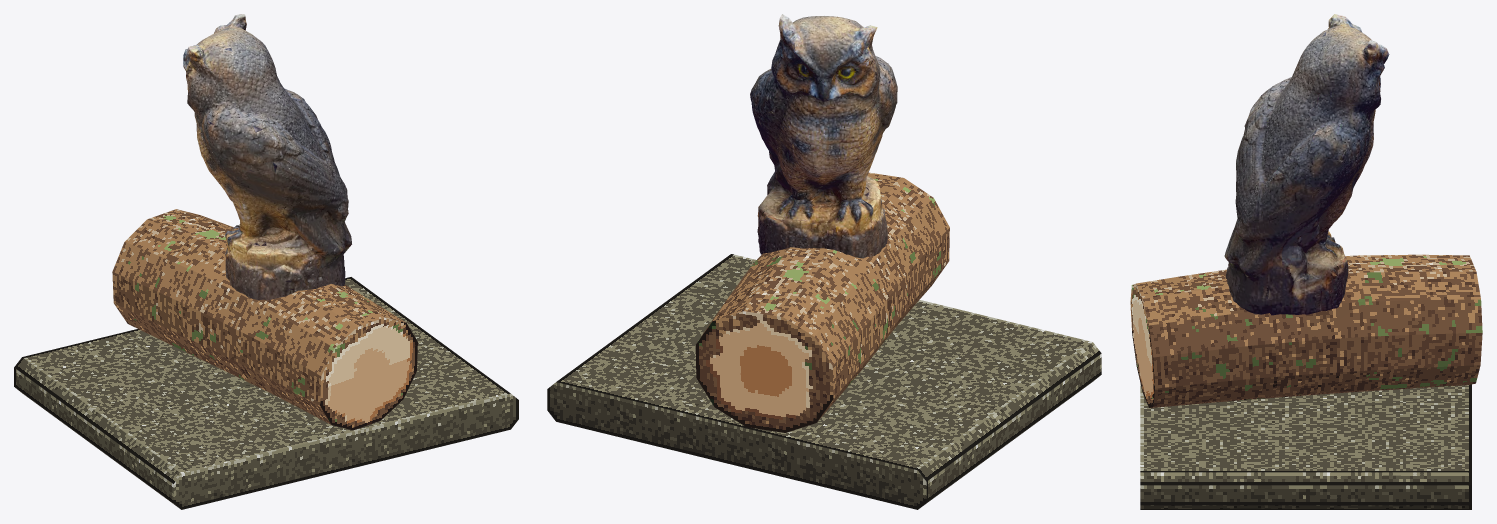
Rendered from fukuro.glb.
The picture shows the model from 3 angles, left to right: view 1: azimuth 30°, elevation 25°; view 2: azimuth 150°, elevation 25°; view 3: azimuth 270°, elevation 25°; orthographic projection. The views are drawn at different scales.
Visible parts, largest first — view 1: base, log, model_bird; view 2: base, log, model_bird; view 3: log, base, model_bird.
Part boxes in pixels (box(x1,y1,x2,y2)): base: box(14, 277, 518, 509); log: box(112, 209, 417, 430); model_bird: box(183, 14, 351, 300); base: box(547, 254, 1101, 509); log: box(695, 172, 949, 432); model_bird: box(750, 14, 897, 258); log: box(1130, 254, 1482, 407); base: box(1140, 383, 1471, 509); model_bird: box(1224, 14, 1389, 315).
Bounding box in the file's own units: 30 × 30.95 × 25.47.
Materials: 2 (2 with a texture image).
